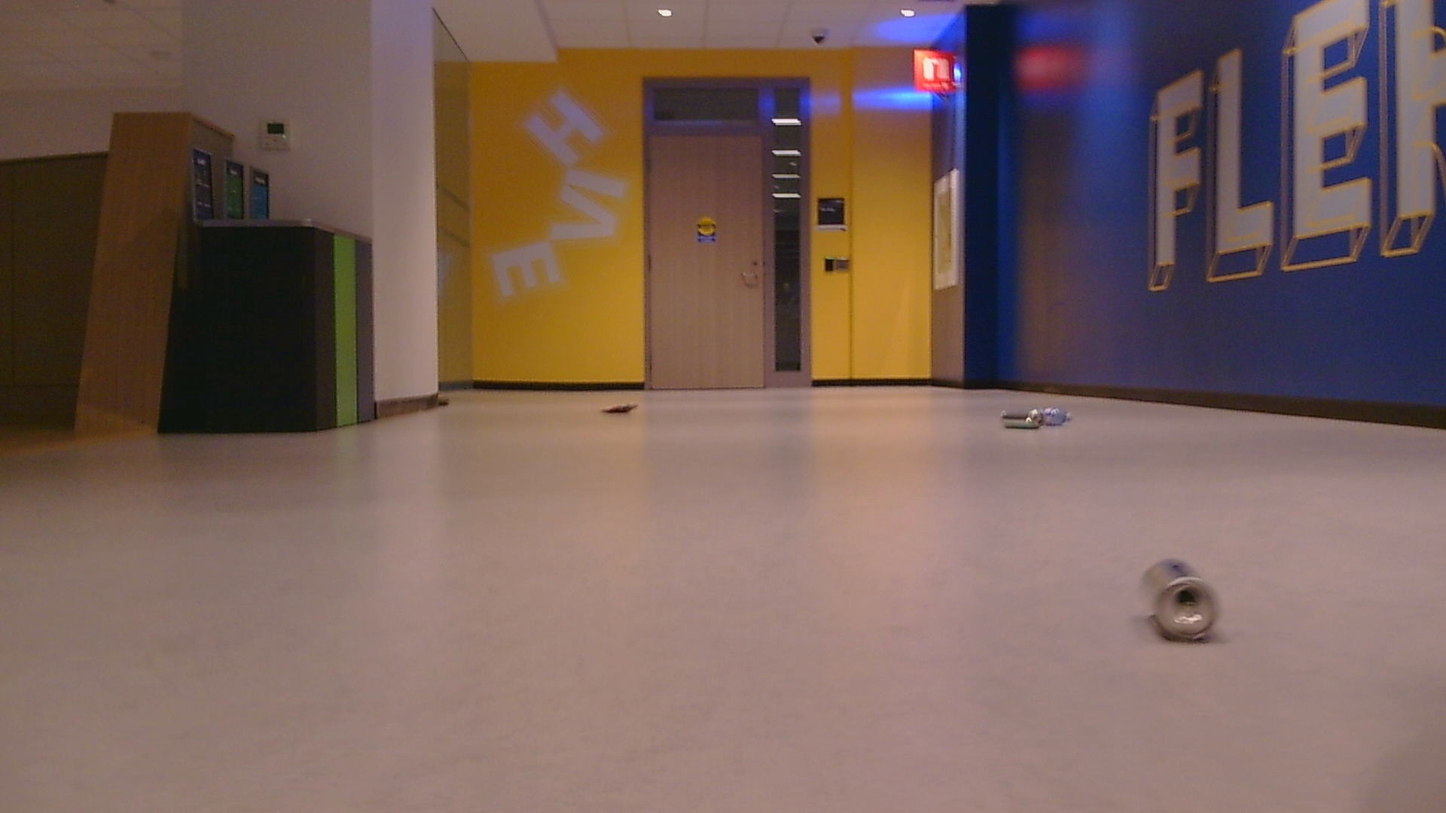can: (1141, 558, 1220, 641), (999, 401, 1075, 428), (599, 401, 639, 413)
